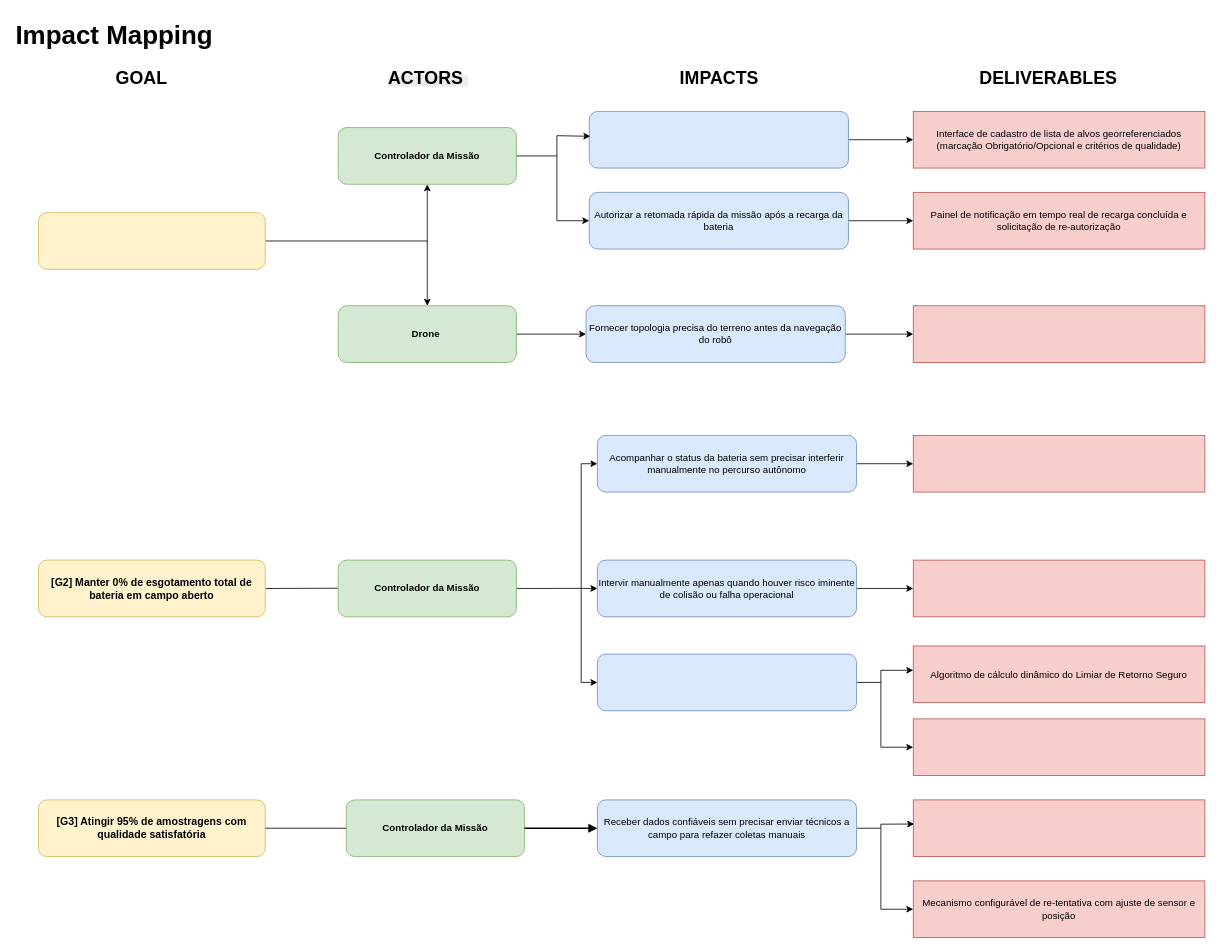
The diagram is 1219 pixels wide and 952 high, and some of its shapes have lost their labels. The shapes that lost their labels are listed below. From the top down, each one's centre as x and y in pixels, then its label:
At (718,139): "Cadastrar alvos com prioridades bem definidas e sem ambiguidades antes do início".
At (151,240): "[G1] Garantir 100% dos alvos obrigatórios concluídos com resultado explícito".
At (1058,333): "Módulo de recepção e importação de mapas topológicos".
At (1058,463): "Painel de monitoramento de telemetria contínua e alertas de bateria crítica".
At (1058,588): "Comando de sobrescrita/intervenção de emergência".
At (727,682): "Eliminar a necessidade de resgate manual de robôs descarregados em campo".
At (1058,747): "Navegação autônoma de retorno à base com salvamento de checkpoint".
At (1058,828): "Módulo de validação imediata da qualidade da amostragem".
